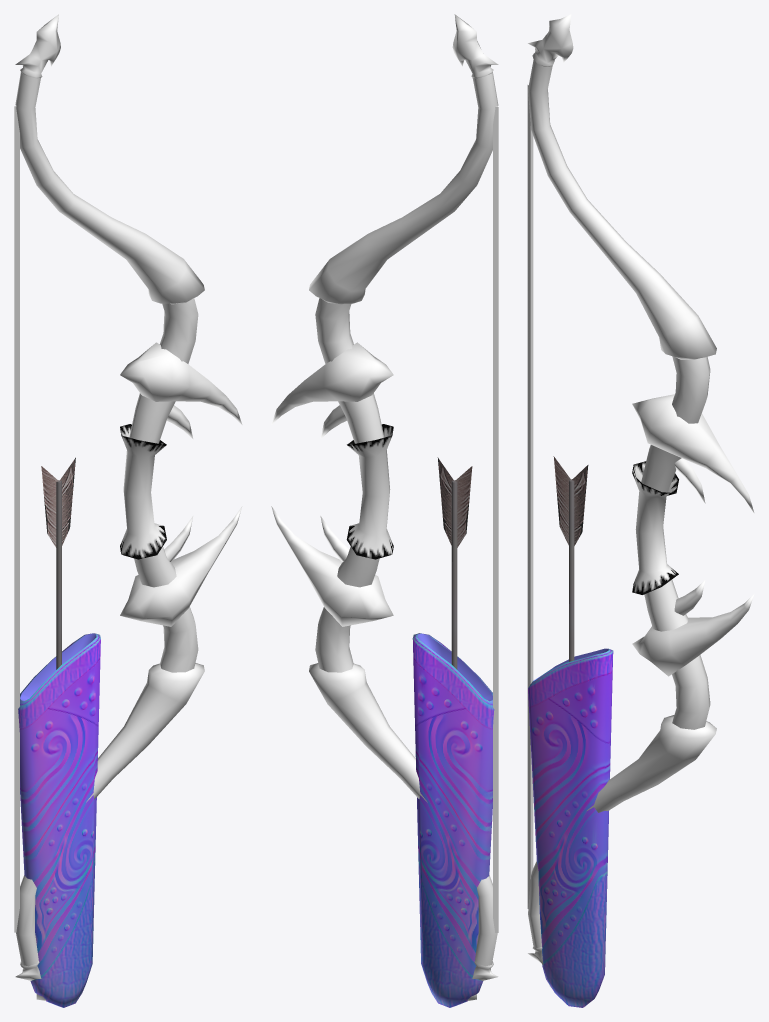
File: weapon_bow_ShenMin.obj
The picture shows the model from 3 angles, left to right: view 1: azimuth 30°, elevation 25°; view 2: azimuth 150°, elevation 25°; view 3: azimuth 330°, elevation 25°; orthographic projection.
Visible parts, largest first — view 1: weapon_bow_ShenMin01, weapon_bow_ShenMin03, weapon_bow_ShenMin02; view 2: weapon_bow_ShenMin01, weapon_bow_ShenMin03, weapon_bow_ShenMin02; view 3: weapon_bow_ShenMin01, weapon_bow_ShenMin03, weapon_bow_ShenMin02.
Part boxes in pixels (x1,y1,x2,y2): weapon_bow_ShenMin01: [14, 14, 242, 1000]; weapon_bow_ShenMin03: [18, 633, 100, 1007]; weapon_bow_ShenMin02: [41, 457, 75, 669]; weapon_bow_ShenMin01: [271, 14, 498, 1000]; weapon_bow_ShenMin03: [412, 633, 494, 1007]; weapon_bow_ShenMin02: [437, 457, 472, 669]; weapon_bow_ShenMin01: [527, 14, 754, 988]; weapon_bow_ShenMin03: [528, 648, 613, 1007]; weapon_bow_ShenMin02: [553, 456, 588, 661].
Bounding box in the file's own units: 26.23 × 109 × 6.67.
Materials: 3 (3 with a texture image).
